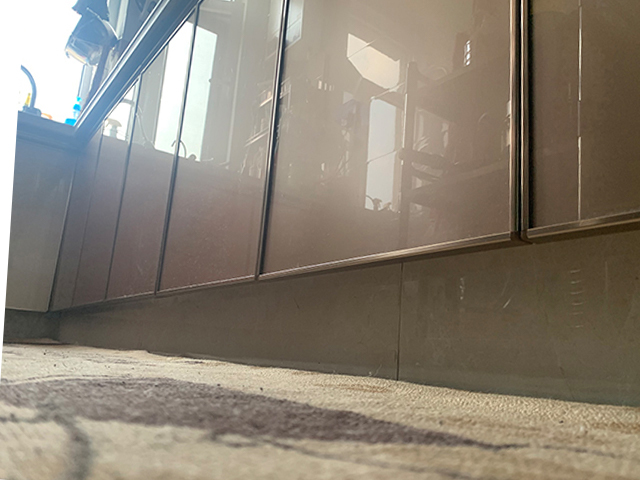cabinet: (61, 1, 632, 404)
carpet: (1, 340, 640, 480)
